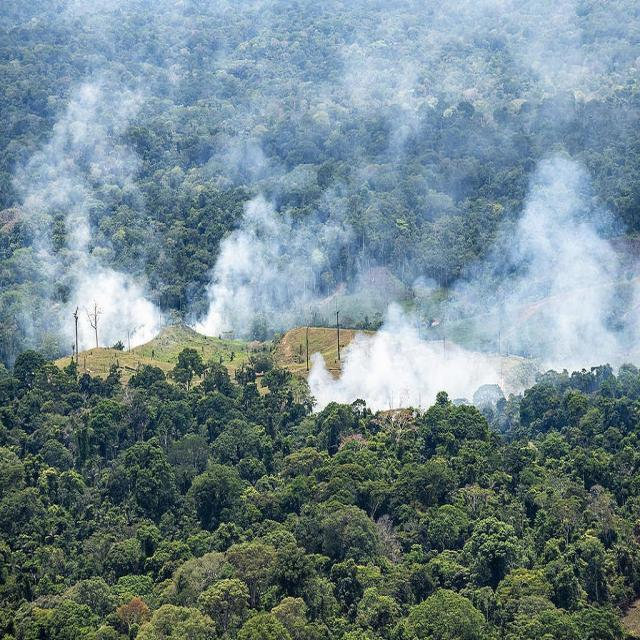Smoke: (509, 204, 619, 360), (223, 240, 306, 322), (356, 336, 454, 404), (73, 276, 151, 346)
